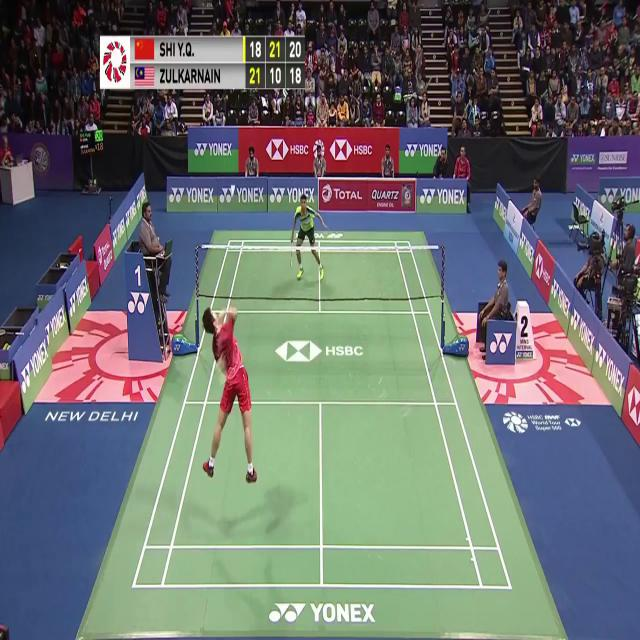Shuttlecock: (229, 191, 236, 202)
